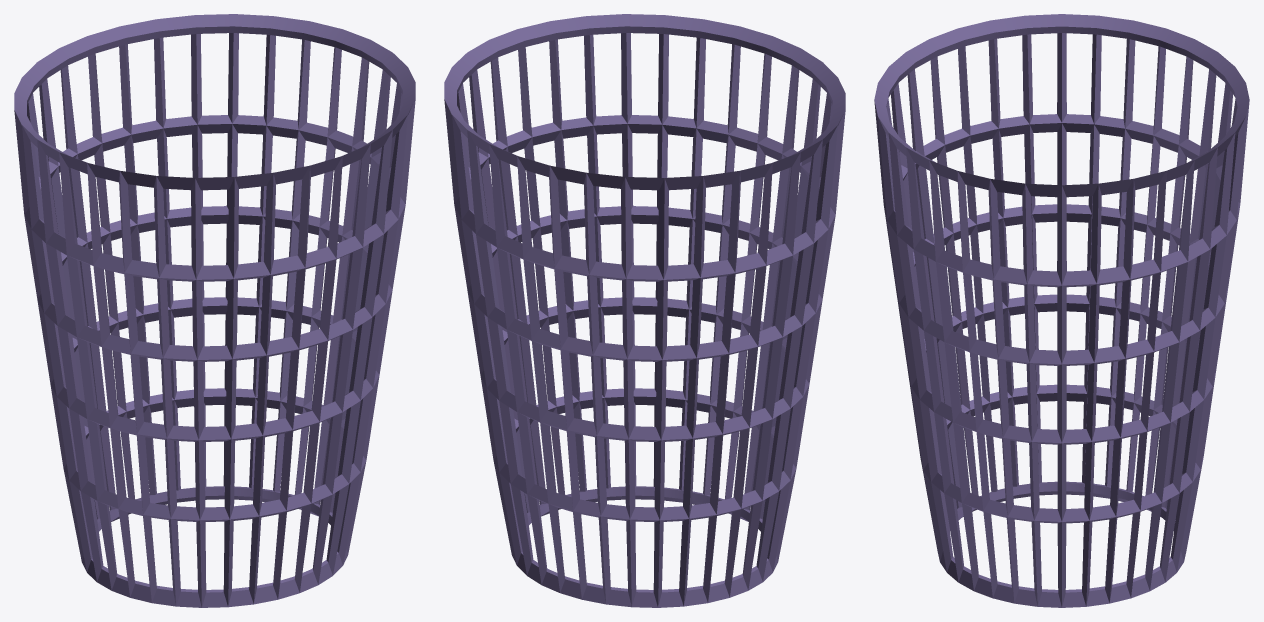
File: desksetupTrashCan.fbx
3 views of the same model, side by side, from view 1: azimuth 30°, elevation 25°; view 2: azimuth 150°, elevation 25°; view 3: azimuth 270°, elevation 25° (orthographic).
Parts seen in each view (by area): view 1: Cylinder.003; view 2: Cylinder.003; view 3: Cylinder.003.
Part boxes in pixels (x1,y1,x2,y2): Cylinder.003: [14, 14, 415, 607]; Cylinder.003: [444, 14, 845, 607]; Cylinder.003: [874, 14, 1249, 607].
Size of the model in its own units: 55.78 by 68.56 by 51.65.
